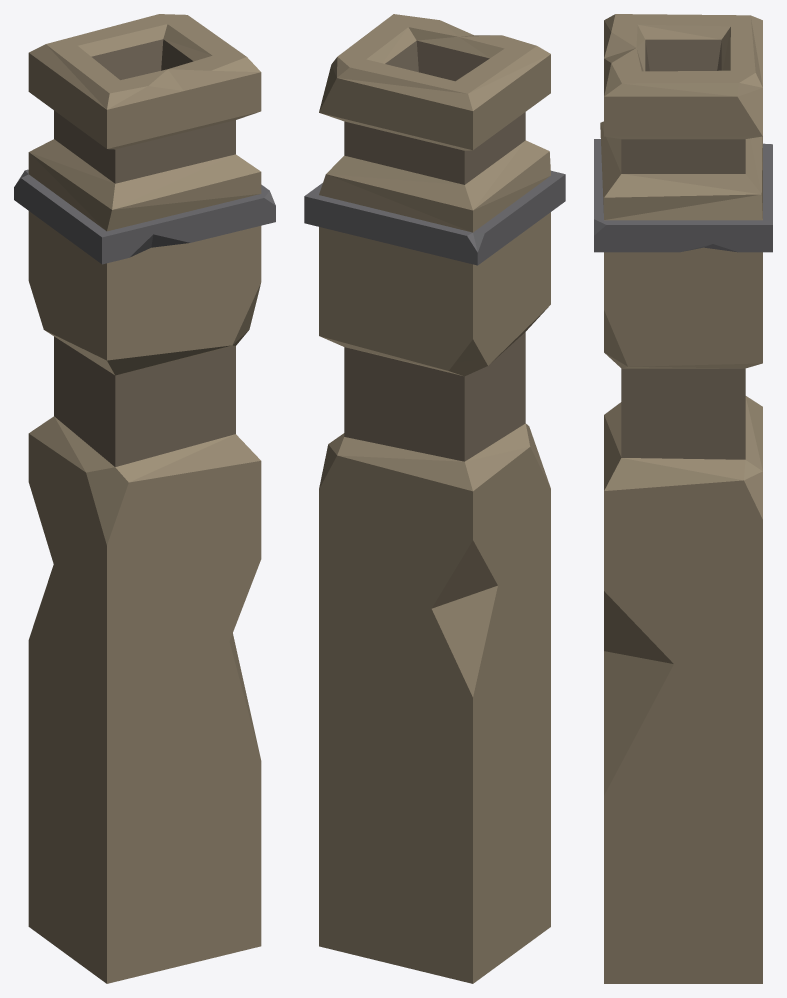
File: SM_Bld_House_Chimney_03.gltf
The picture shows the model from 3 angles, left to right: view 1: azimuth 30°, elevation 25°; view 2: azimuth 150°, elevation 25°; view 3: azimuth 270°, elevation 25°; orthographic projection.
Parts seen in each view (by area): view 1: SM_Bld_House_Chimney_03; view 2: SM_Bld_House_Chimney_03; view 3: SM_Bld_House_Chimney_03.
Part boxes in pixels (x1,y1,x2,y2): SM_Bld_House_Chimney_03: (14,14,275,983); SM_Bld_House_Chimney_03: (304,14,565,983); SM_Bld_House_Chimney_03: (594,14,772,983).
Size of the model in its own units: 0.9577 by 4.66 by 0.8405.
1 material, 1 textured.
